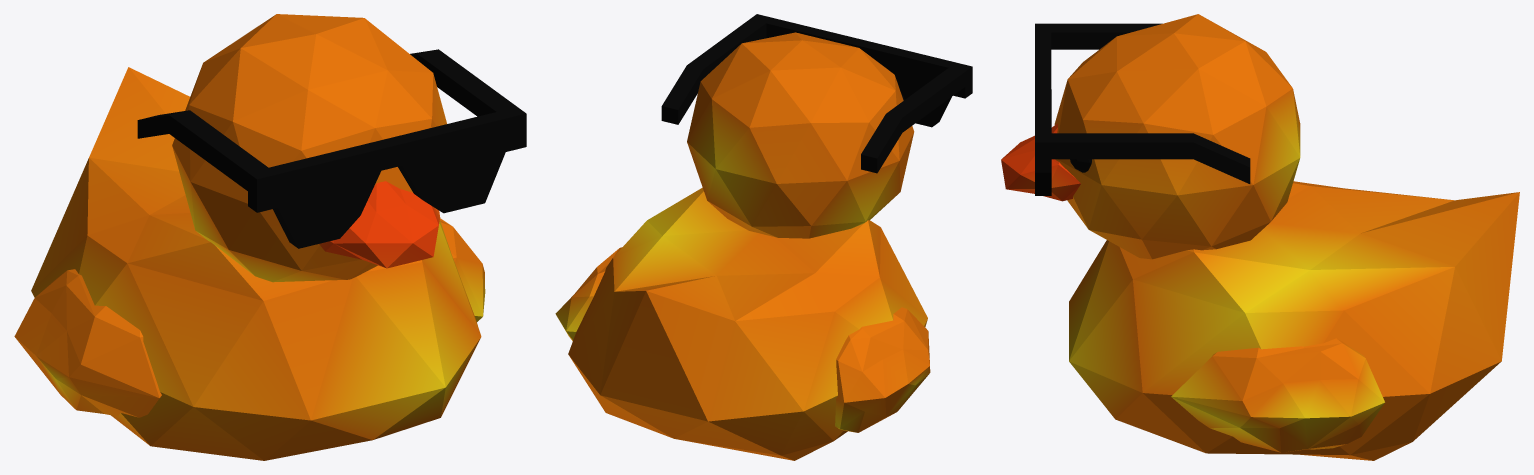
The model's file is Duck.glb.
3 views of the same model, side by side, from view 1: azimuth 30°, elevation 25°; view 2: azimuth 150°, elevation 25°; view 3: azimuth 270°, elevation 25° (orthographic). The views are drawn at different scales.
Parts seen in each view (by area): view 1: The Duck, Glasses; view 2: The Duck, Glasses; view 3: The Duck, Glasses.
Part boxes in pixels (x1,y1,x2,y2): The Duck: (14,14,485,460); Glasses: (137,49,526,248); The Duck: (555,32,930,460); Glasses: (661,14,972,173); The Duck: (1001,14,1519,460); Glasses: (1035,23,1250,195).
Bounding box in the file's own units: 1.45 × 1.38 × 1.71.
